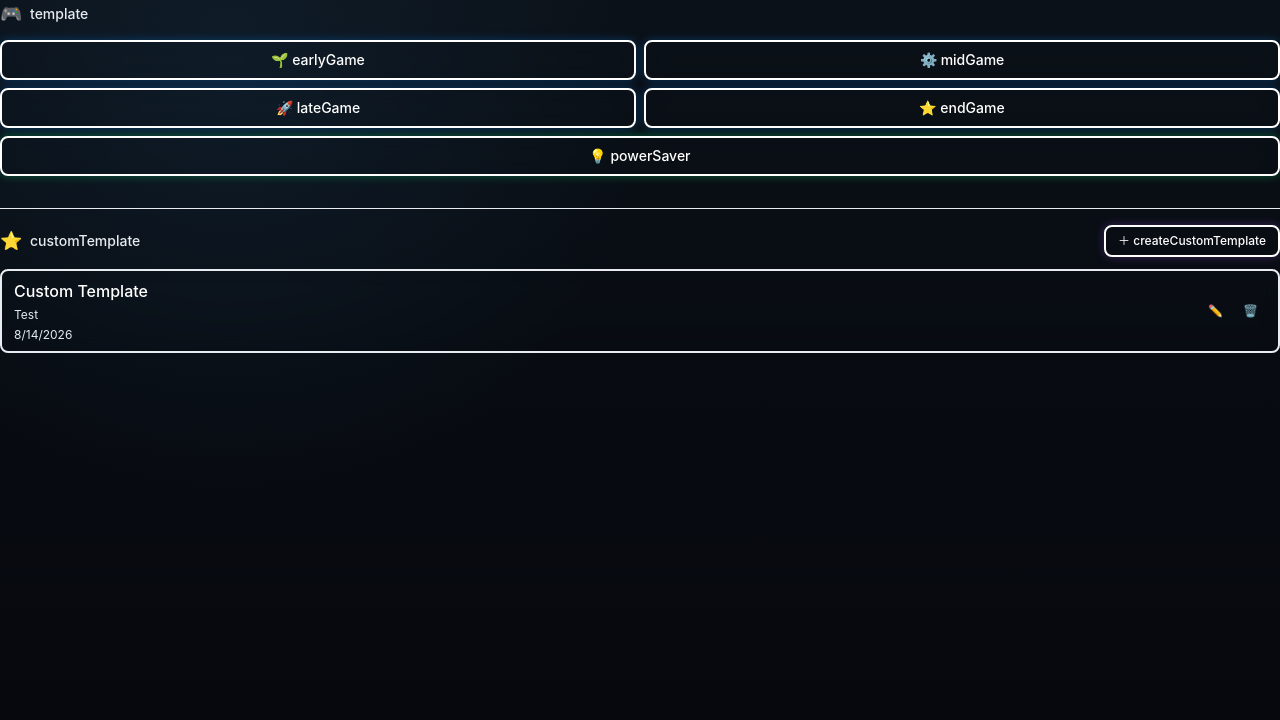
Test case: TemplateSelector › Custom Templates › カスタムテンプレートの確認モーダルですべての設定が表示される
Click the button "Custom Template Test 8/14/2026" at (81, 291), box [14,279,1192,343]
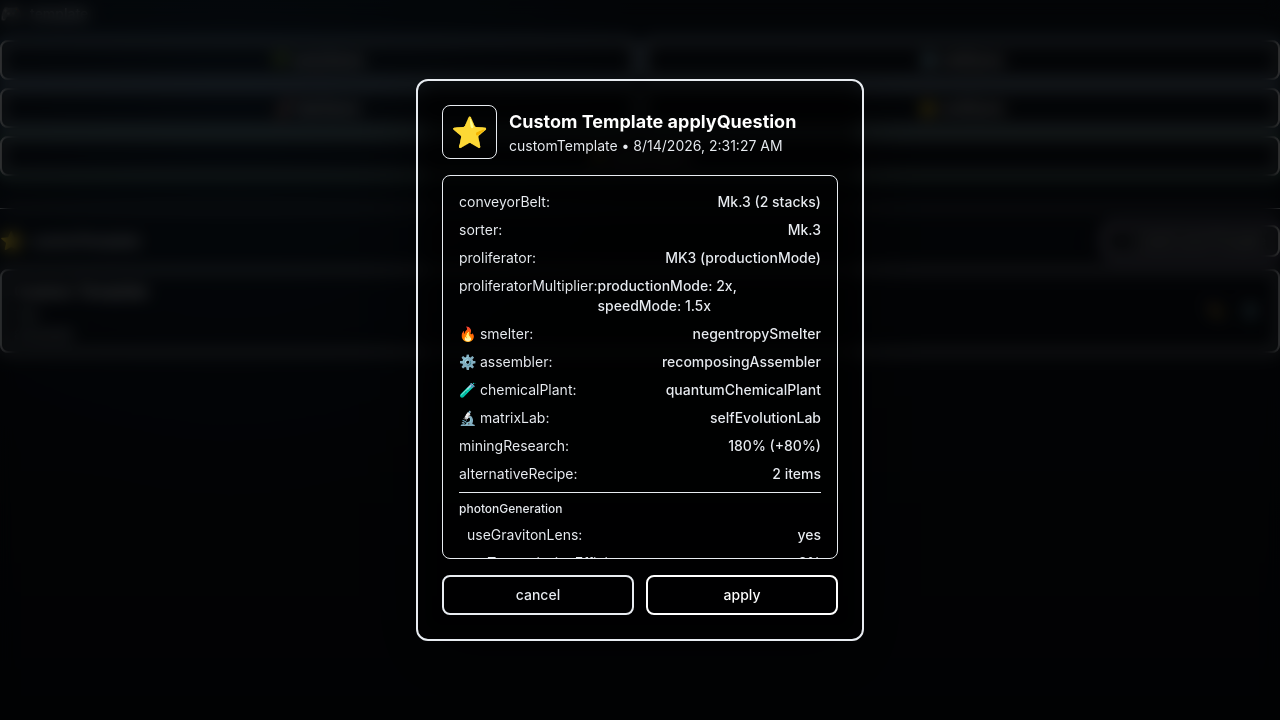
Now the text "conveyorBelt:" is shown, box [459,192,550,212]
Now the text "Mk.3 (2 stacks)" is shown, box [718,192,821,212]
Now the text "sorter:" is shown, box [459,220,502,240]
